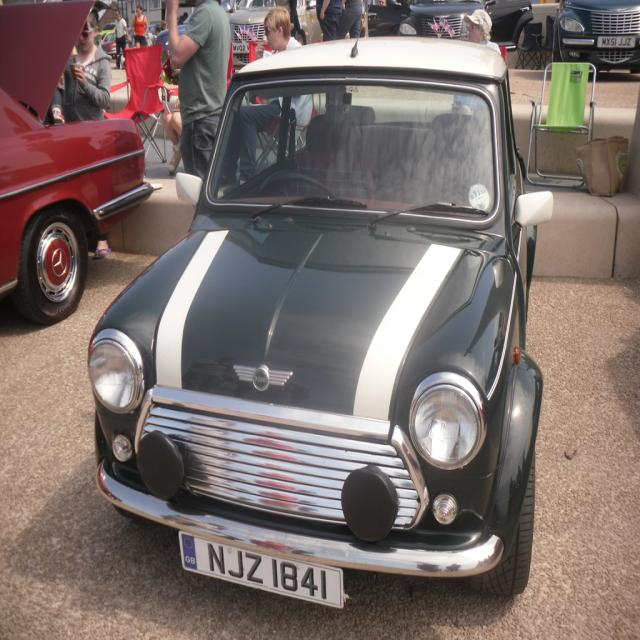car: (86, 27, 544, 610)
